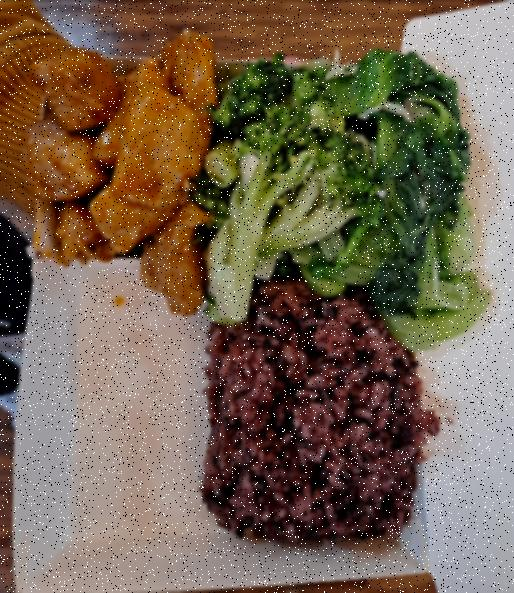big grilled chicken leg: (0, 24, 469, 593)
braised fish: (194, 262, 443, 554)
braised fish fillet: (199, 59, 374, 320), (333, 46, 478, 340)
braised pork: (24, 31, 229, 306)
